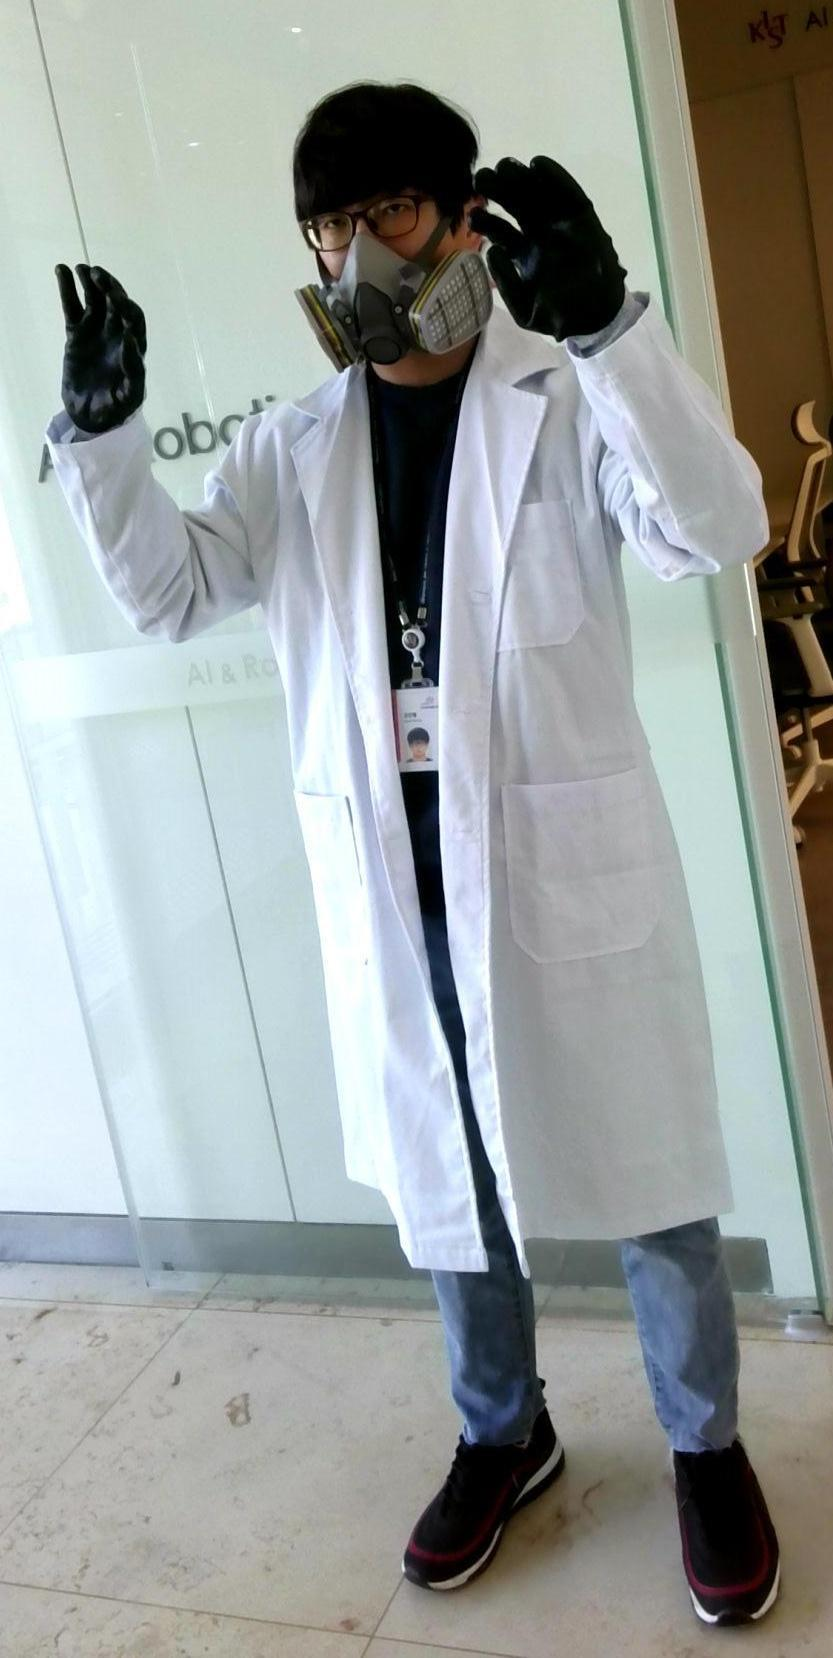lab_coat: (274, 349, 705, 1233)
